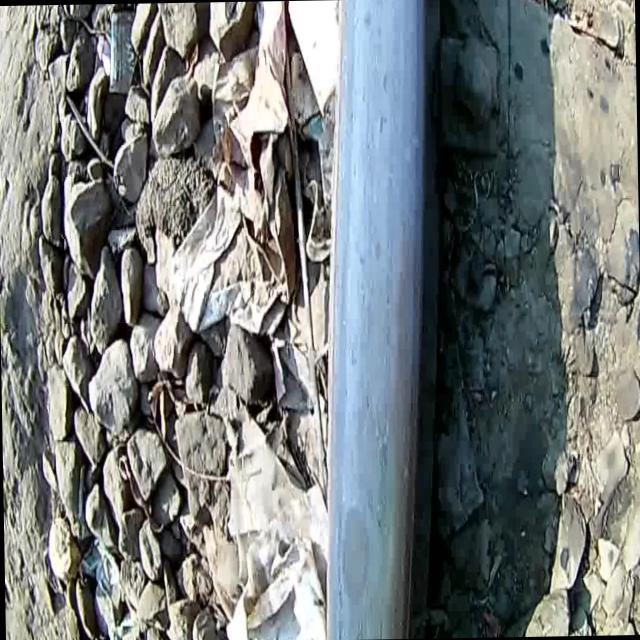Squats: (289, 0, 460, 640)
